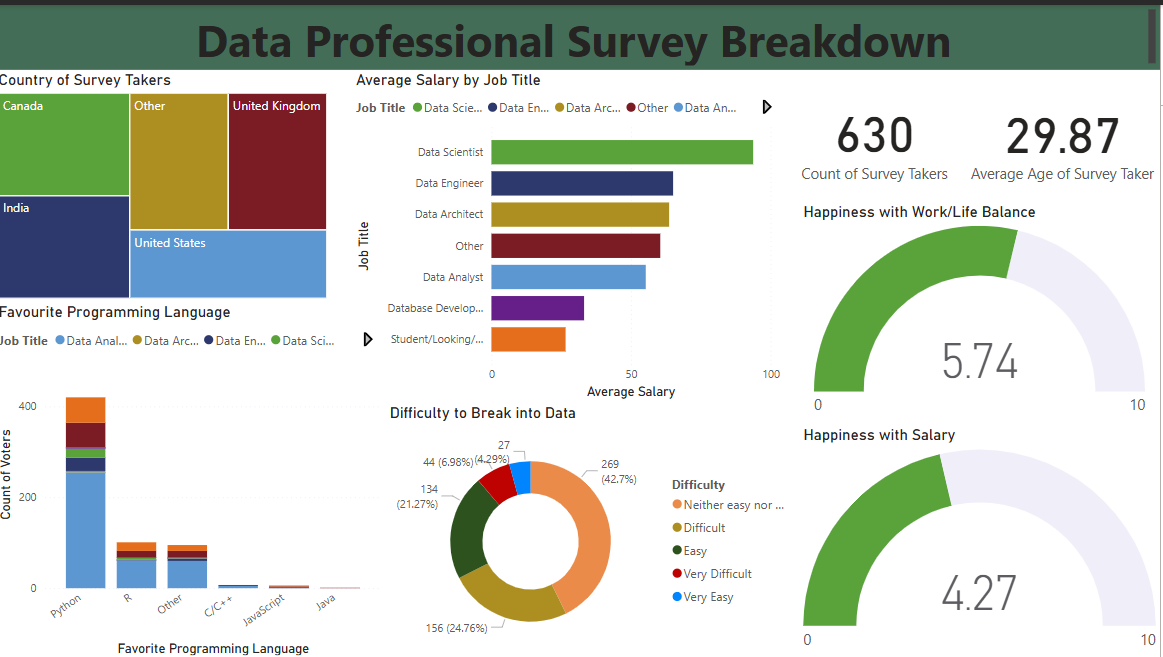

What the dashboard file says about the page in this screenshot:
{"tool":"powerbi","page":{"name":"Page 1","canvas":[1280,720],"ordinal":0},"visuals":[{"type":"textbox","box":[0,0,1280.3,71.2],"z":0},{"type":"card","fields":{"Values":["CountNonNull(Data Professional Survey.Unique ID)"]},"box":[867.6,71.2,199.1,149.7],"z":1000},{"type":"card","fields":{"Values":["Avg(Data Professional Survey.Q10 - Current Age)"]},"box":[1066.7,71.2,213.6,151.1],"z":2000},{"type":"barChart","title":"Average Salary by Job Title","fields":{"Category":["Data Professional Survey.Q1 - Which Title Best Fits your Current Role?.1"],"Y":["Avg(Data Professional Survey.Average Salary)"],"Series":["Data Professional Survey.Q1 - Which Title Best Fits your Current Role?.1"]},"box":[392.4,71.2,475.2,366.2],"z":3000},{"type":"columnChart","title":"Favourite Programming Language","fields":{"Category":["Data Professional Survey.Q5 - Favorite Programming Language.1"],"Y":["CountNonNull(Data Professional Survey.Unique ID)"],"Series":["Data Professional Survey.Q1 - Which Title Best Fits your Current Role?.1"]},"box":[0,327,430.2,392.4],"z":4000},{"type":"treemap","title":"Country of Survey Takers","fields":{"Group":["Data Professional Survey.Q11 - Which Country do you live in?.1"],"Values":["Count(Data Professional Survey.Q11 - Which Country do you live in?.1)"]},"box":[0,71.2,370.6,255.8],"z":5000},{"type":"gauge","title":"Happiness with Work/Life Balance","fields":{"Y":["Avg(Data Professional Survey.Q6 - How Happy are you in your Current Position with the following? (Work/Life Balance))"],"MinValue":["Min(Data Professional Survey.Q6 - How Happy are you in your Current Position with the following? (Work/Life Balance))1"],"MaxValue":["Max(Data Professional Survey.Q6 - How Happy are you in your Current Position with the following? (Work/Life Balance))2"]},"box":[883.6,216.5,396.7,244.1],"z":6000},{"type":"gauge","title":"Happiness with Salary","fields":{"Y":["Avg(Data Professional Survey.Q6 - How Happy are you in your Current Position with the following? (Salary))"],"MinValue":["Min(Data Professional Survey.Q6 - How Happy are you in your Current Position with the following? (Salary))"],"MaxValue":["Max(Data Professional Survey.Q6 - How Happy are you in your Current Position with the following? (Salary))"]},"box":[883.6,460.7,396.7,258.7],"z":7000},{"type":"donutChart","title":"Difficulty to Break into Data","fields":{"Category":["Data Professional Survey.Q7 - How difficult was it for you to break into Data?"],"Y":["CountNonNull(Data Professional Survey.Q7 - How difficult was it for you to break into Data?)"]},"box":[430.2,437.4,453.4,281.9],"z":8000}]}

Visuals, with their boxes in screenshot pixels (x1, y1, x2, y2), scaled from the page's 1280x720 canvas onto the 1163x657 screenshot:
textbox: x1=0, y1=0, x2=1162, y2=65
card - CountNonNull(Data Professional Survey.Unique ID): x1=788, y1=65, x2=969, y2=202
card - Avg(Data Professional Survey.Q10 - Current Age): x1=969, y1=65, x2=1162, y2=203
"Average Salary by Job Title" barChart: x1=357, y1=65, x2=788, y2=399
"Favourite Programming Language" columnChart: x1=0, y1=298, x2=391, y2=656
"Country of Survey Takers" treemap: x1=0, y1=65, x2=337, y2=298
"Happiness with Work/Life Balance" gauge: x1=803, y1=198, x2=1162, y2=420
"Happiness with Salary" gauge: x1=803, y1=420, x2=1162, y2=656
"Difficulty to Break into Data" donutChart: x1=391, y1=399, x2=803, y2=656
